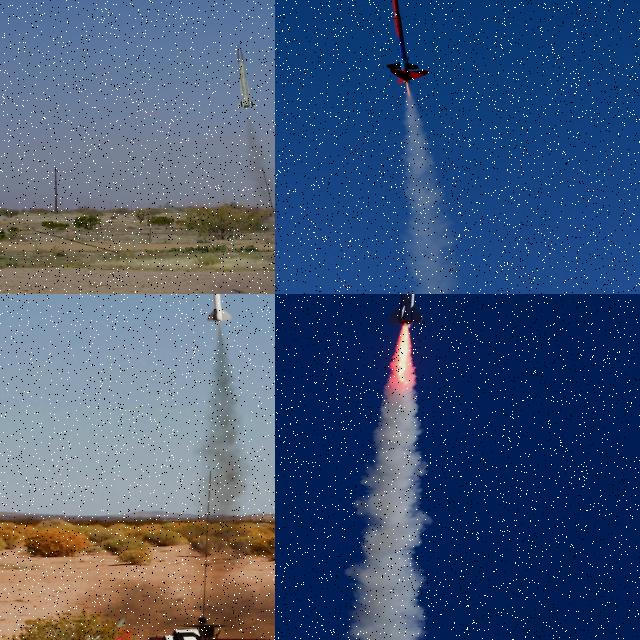Rocket: (385, 0, 431, 84), (385, 294, 436, 329), (236, 44, 257, 108), (205, 294, 232, 323)
